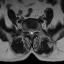CCS_normal: (30, 28, 32, 37)
LFS_normal: (34, 27, 36, 34)
LLS_normal: (32, 28, 34, 36)
RFS_stenosis: (26, 27, 28, 33)
RLS_normal: (28, 28, 30, 36)
